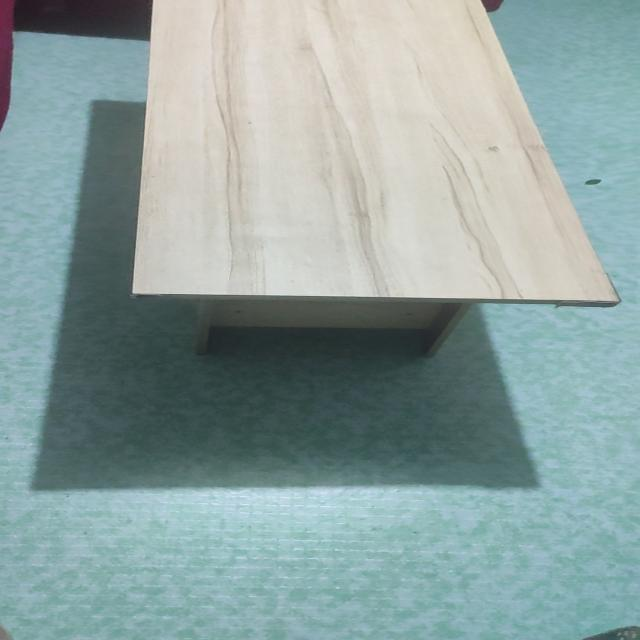table: (121, 2, 623, 370)
